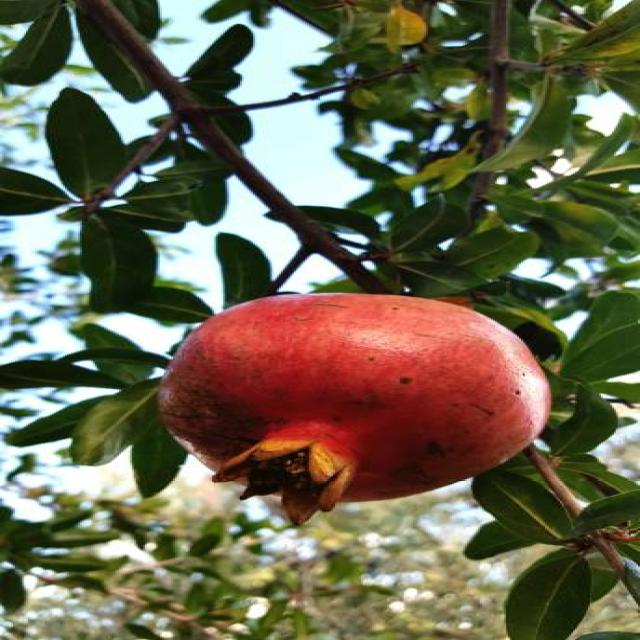Pomegranate: (143, 289, 552, 525)
